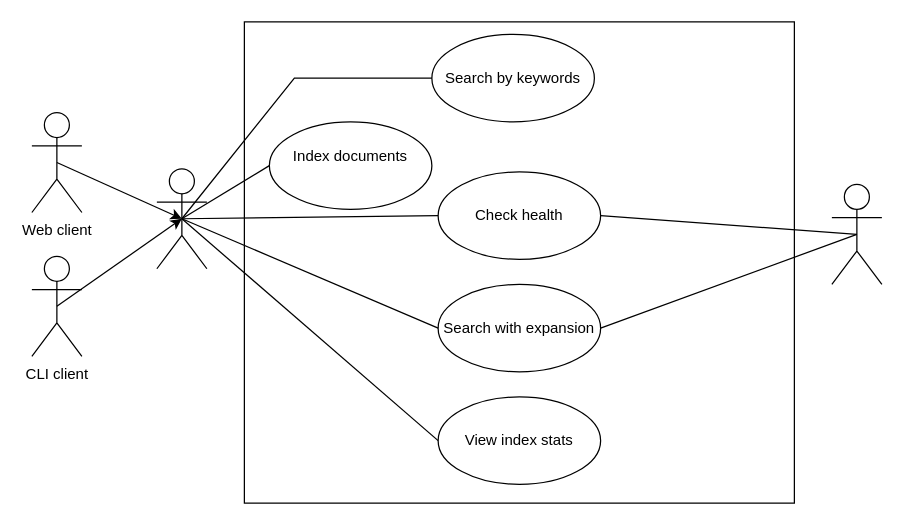
Some shapes in this 904 by 525 pixel diagram are drawn without their labels. The centre of each missing label's shape, as x and y in pixels:
Client: pixel 181 218
LLM: pixel 856 233
